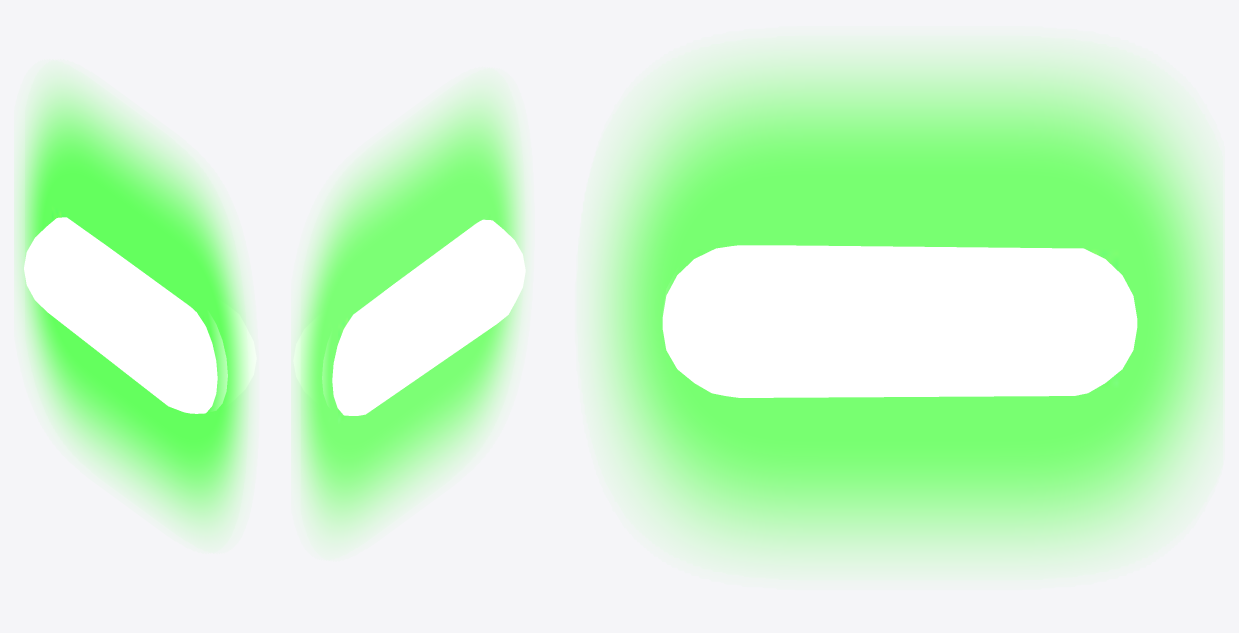
The model's file is 4e689602-9da7-4e37-9fac-677272ded275.glb.
The picture shows the model from 3 angles, left to right: view 1: azimuth 30°, elevation 25°; view 2: azimuth 150°, elevation 25°; view 3: azimuth 270°, elevation 25°; orthographic projection. The views are drawn at different scales.
Parts seen in each view (by area): view 1: Plane.009; view 2: Plane.009; view 3: Plane.009.
Boxes of the visible parts, left/top/right/bottom form: Plane.009: left=16, top=77, right=256, bottom=535; Plane.009: left=293, top=85, right=525, bottom=543; Plane.009: left=589, top=50, right=1222, bottom=565.
Size of the model in its own units: 0.0573 by 0.2326 by 0.2321.
Materials: 2 (1 with a texture image).
